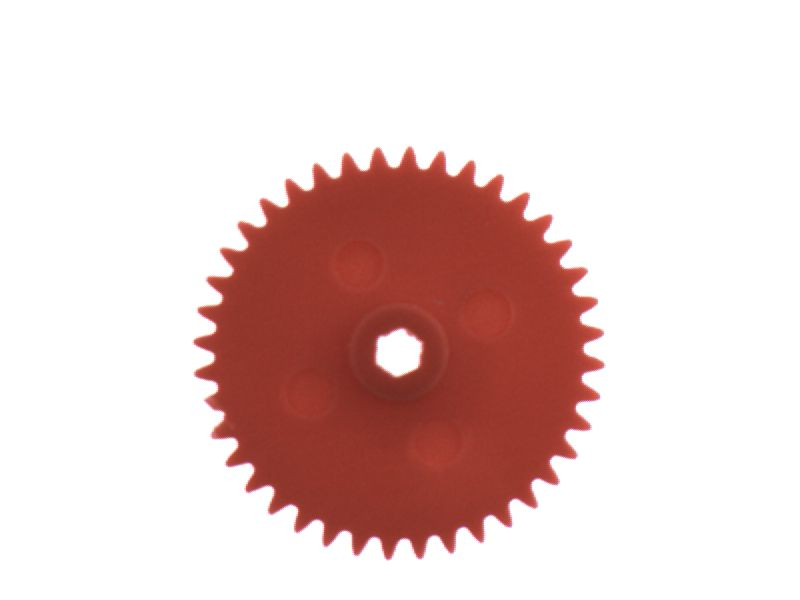defect_break: (178, 382, 237, 424)
